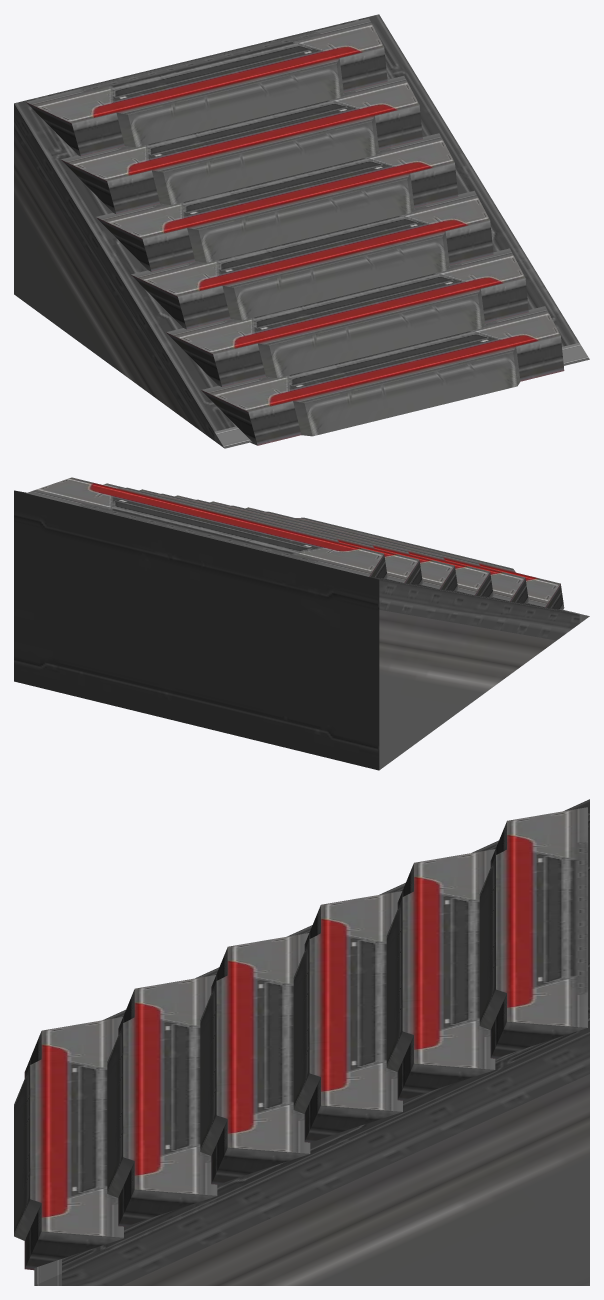
File: stairs.glb
3 renders of one model, top to bottom at view 1: azimuth 30°, elevation 25°; view 2: azimuth 150°, elevation 25°; view 3: azimuth 270°, elevation 25°, orthographic. The views are drawn at different scales.
Visible parts, largest first — view 1: Platform_Stairs_2; view 2: Platform_Stairs_2; view 3: Platform_Stairs_2.
Boxes of the visible parts, x1,y1,x2,y2 form: Platform_Stairs_2: (14, 14, 589, 448); Platform_Stairs_2: (14, 477, 589, 770); Platform_Stairs_2: (14, 799, 589, 1285).
Size of the model in its own units: 2 by 1.01 by 2.07.
Materials: 2 (2 with a texture image).
